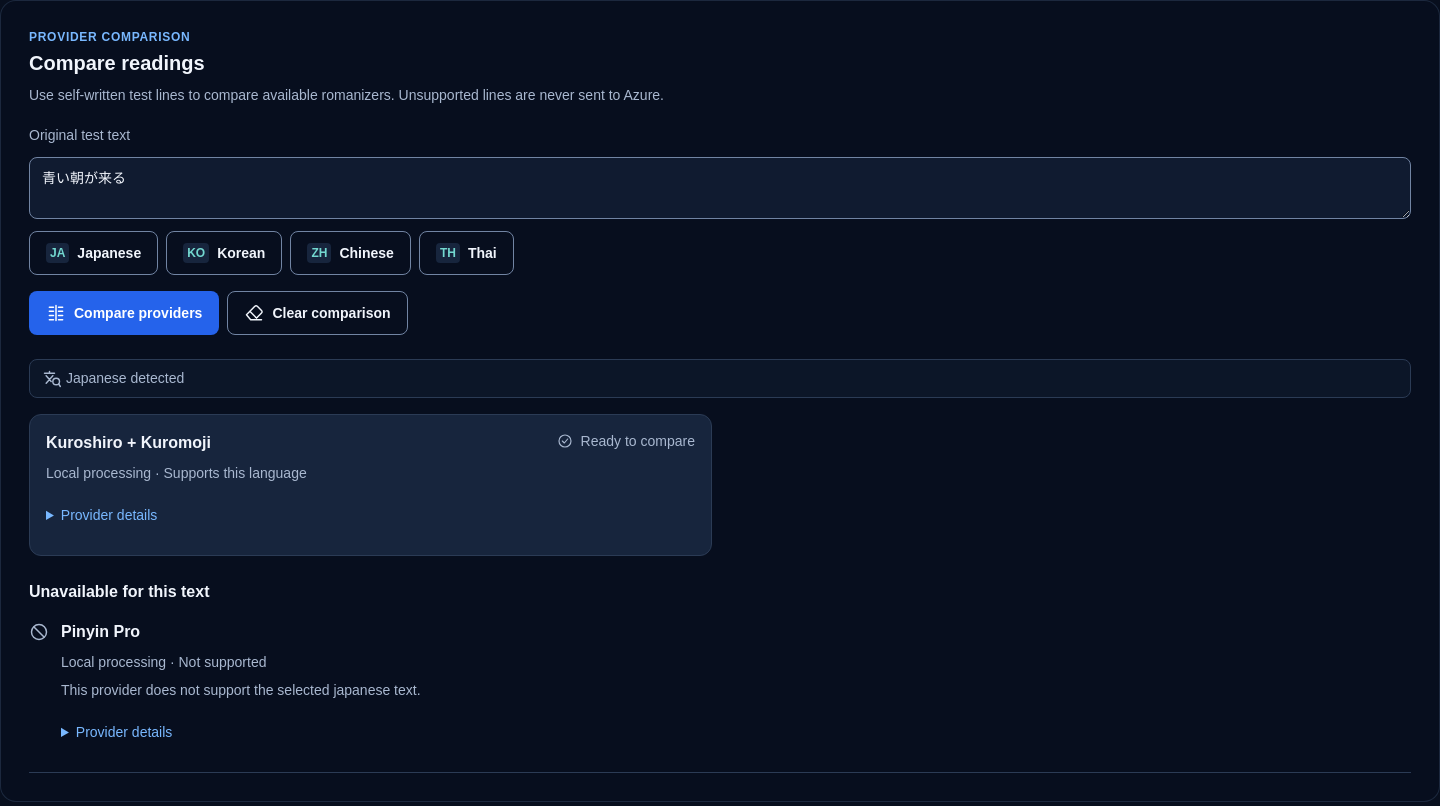
Test: ProviderComparison › requires an accessible manual choice for Kanji-only text
Replace the text in the text box labelled "Original test text" with "東京". click: (720,188)
box: [29, 157, 1411, 219]
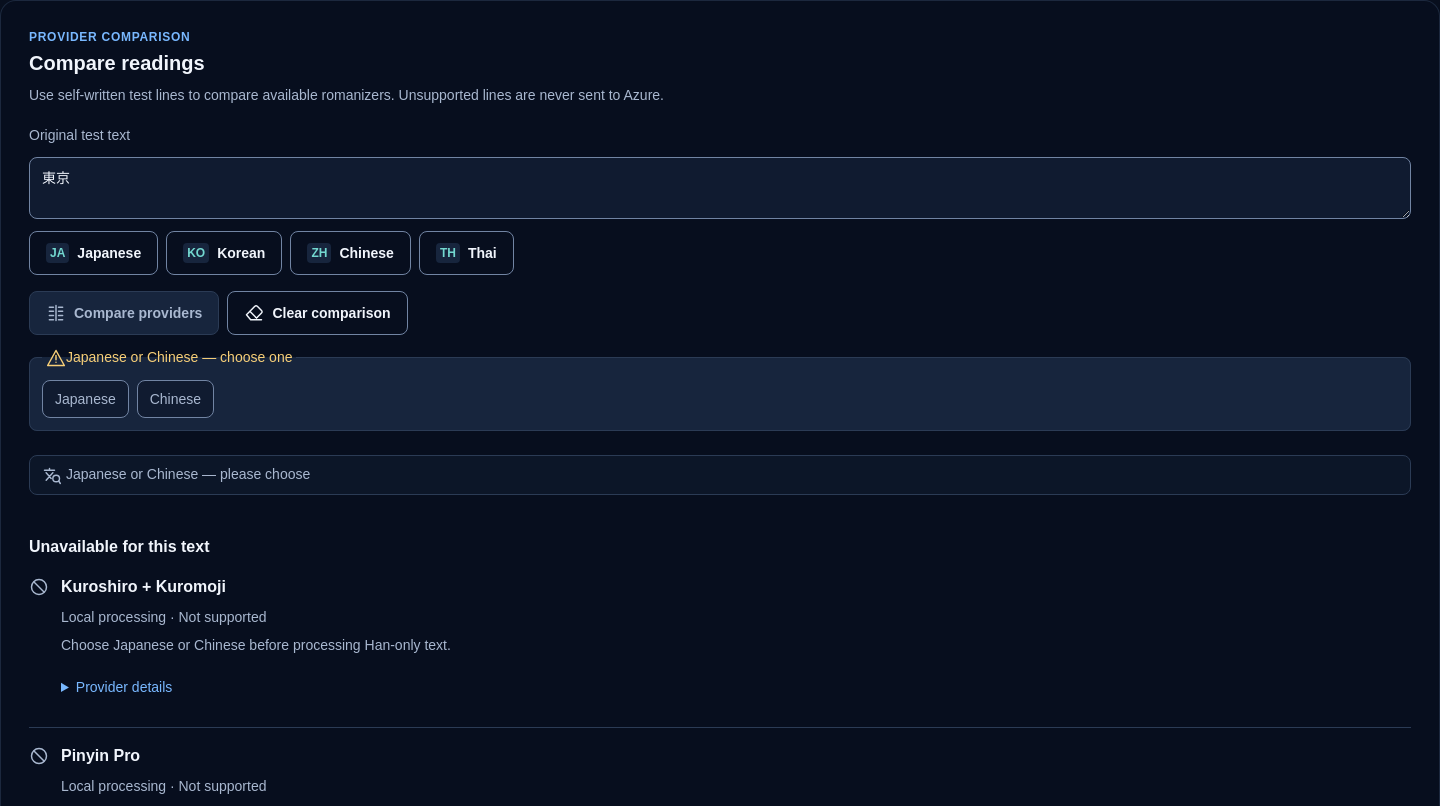
Result: the element named "Detected language" reads "Japanese or Chinese — please choose" at [66, 466, 310, 482]
Result: the radio button with aria-label "Choose Japanese" is not checked
Result: the radio button with aria-label "Choose Chinese" is not checked at [149, 388, 169, 408]
Click the radio button with aria-label "Choose Japanese". click: (64,398)
box: [54, 388, 74, 408]
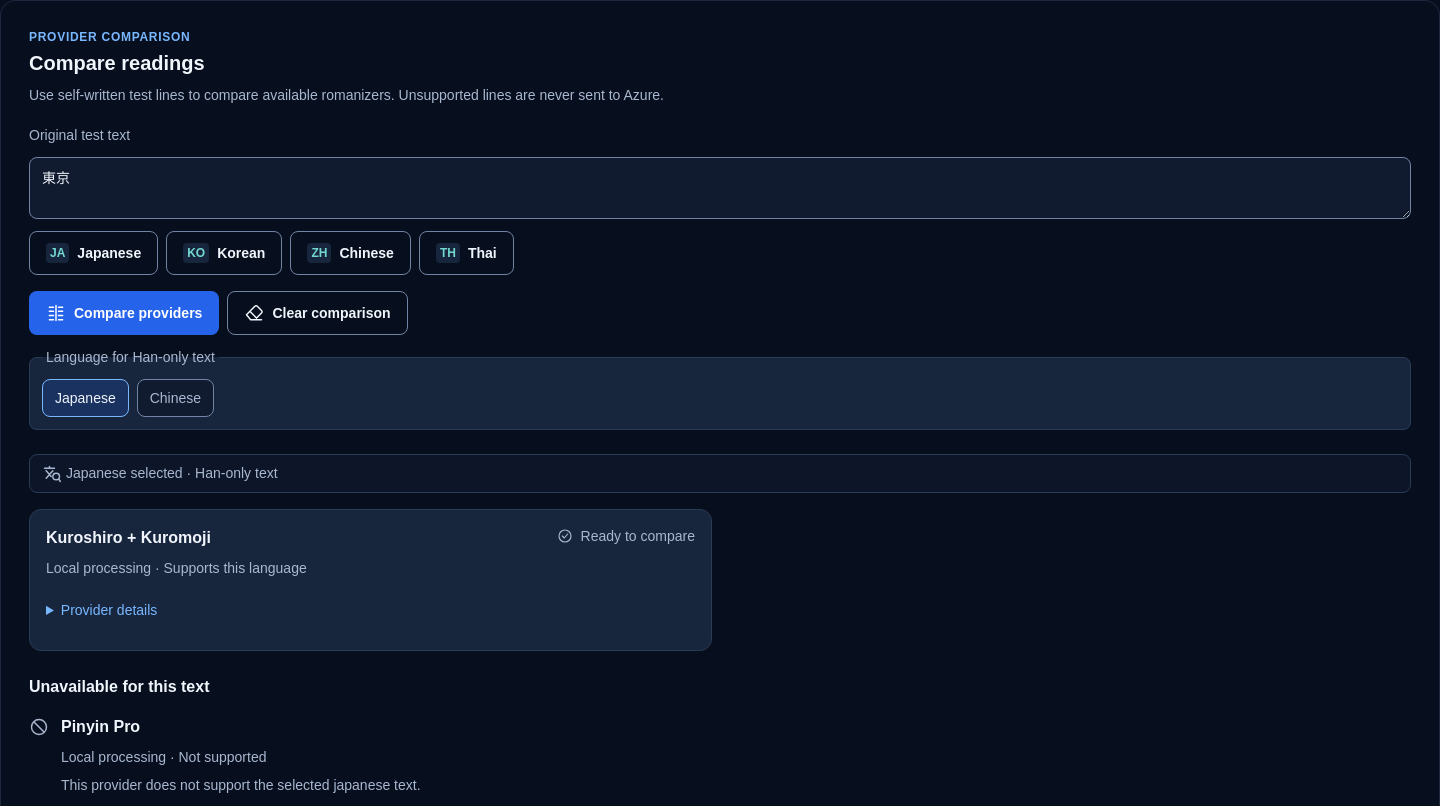
Result: the radio button with aria-label "Choose Japanese" is checked at [54, 387, 74, 407]
Result: the button "Compare providers" is enabled at [29, 291, 219, 335]
